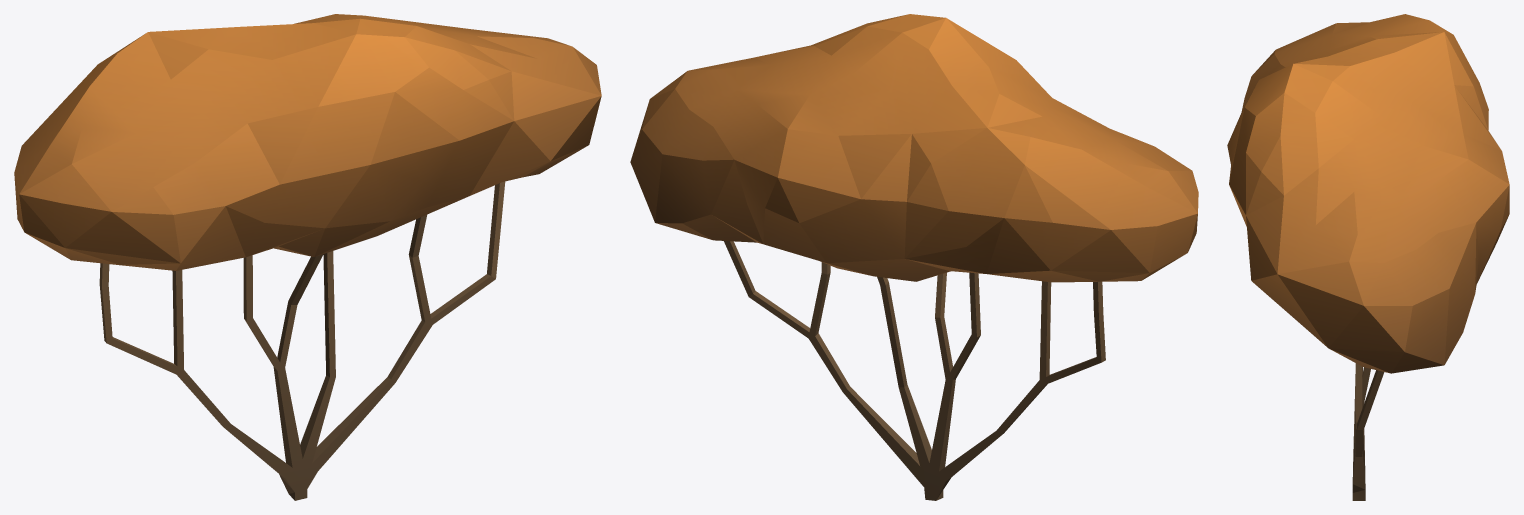
File: Autumn_Plant_03.glb
3 renders of one model, left to right at view 1: azimuth 30°, elevation 25°; view 2: azimuth 150°, elevation 25°; view 3: azimuth 270°, elevation 25°, orthographic. The views are drawn at different scales.
Visible parts, largest first — view 1: Autumn_Plant_03_LOD0; view 2: Autumn_Plant_03_LOD0; view 3: Autumn_Plant_03_LOD0.
Boxes of the visible parts, box(x1,y1,x2,y2) form: Autumn_Plant_03_LOD0: box(14, 14, 601, 500); Autumn_Plant_03_LOD0: box(630, 14, 1198, 500); Autumn_Plant_03_LOD0: box(1227, 14, 1509, 500).
Size of what is drawn, in the model's own units: 1.82 by 1.44 by 0.8294.
Materials: 1 (1 with a texture image).
